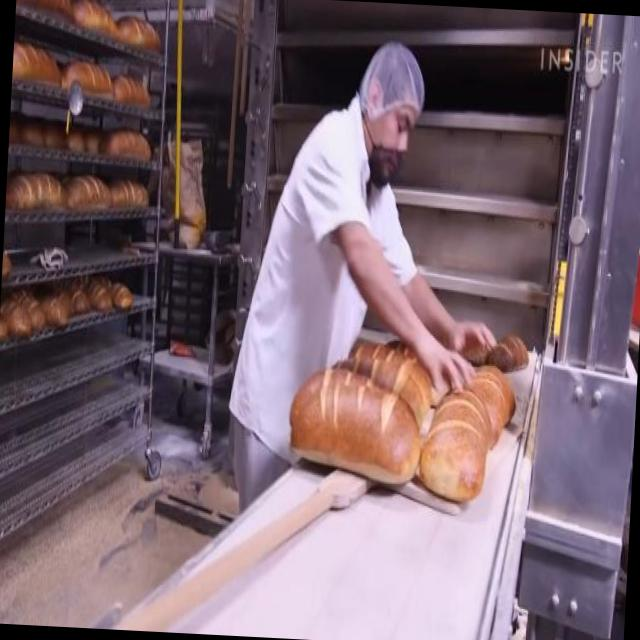hairnet: (359, 42, 418, 111)
